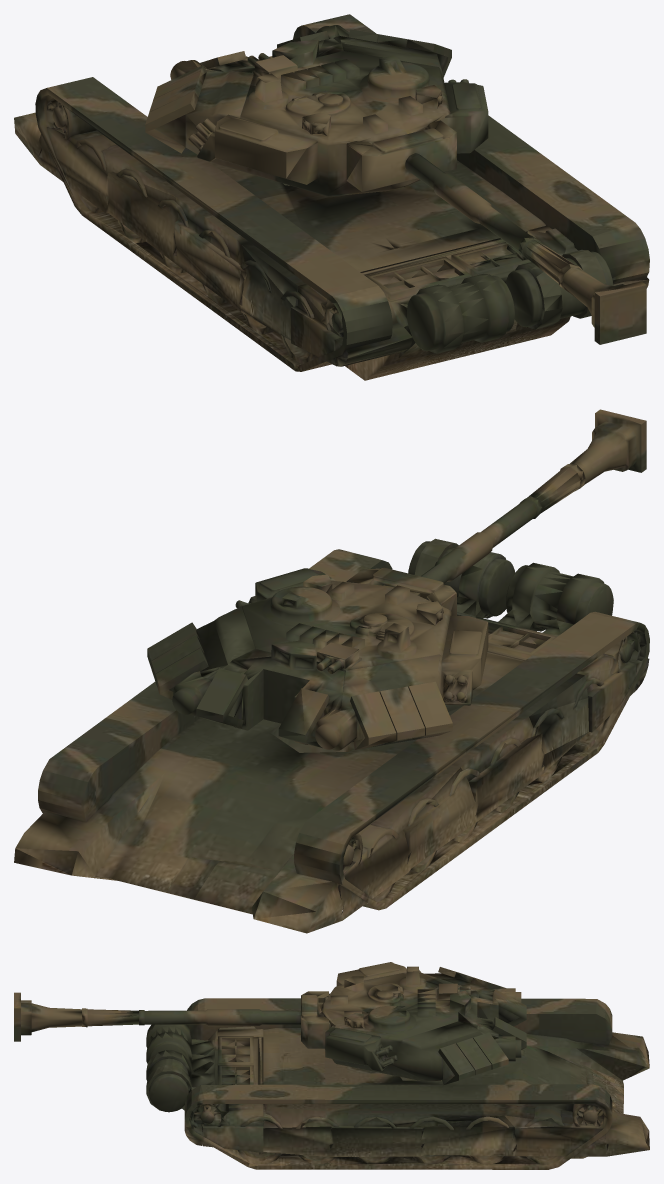
File: mbt_t90.glb
3 views of the same model, one above another, from view 1: azimuth 30°, elevation 25°; view 2: azimuth 150°, elevation 25°; view 3: azimuth 270°, elevation 25° (orthographic). The views are drawn at different scales.
Parts seen in each view (by area): view 1: Body-1; view 2: Body-1; view 3: Body-1.
Boxes of the visible parts, x1=… form: Body-1: x1=14, y1=14, x2=649, y2=380; Body-1: x1=14, y1=409, x2=649, y2=933; Body-1: x1=14, y1=962, x2=649, y2=1169.
Bounding box in the file's own units: 3.68 × 2.33 × 9.63.
1 material, 1 textured.
